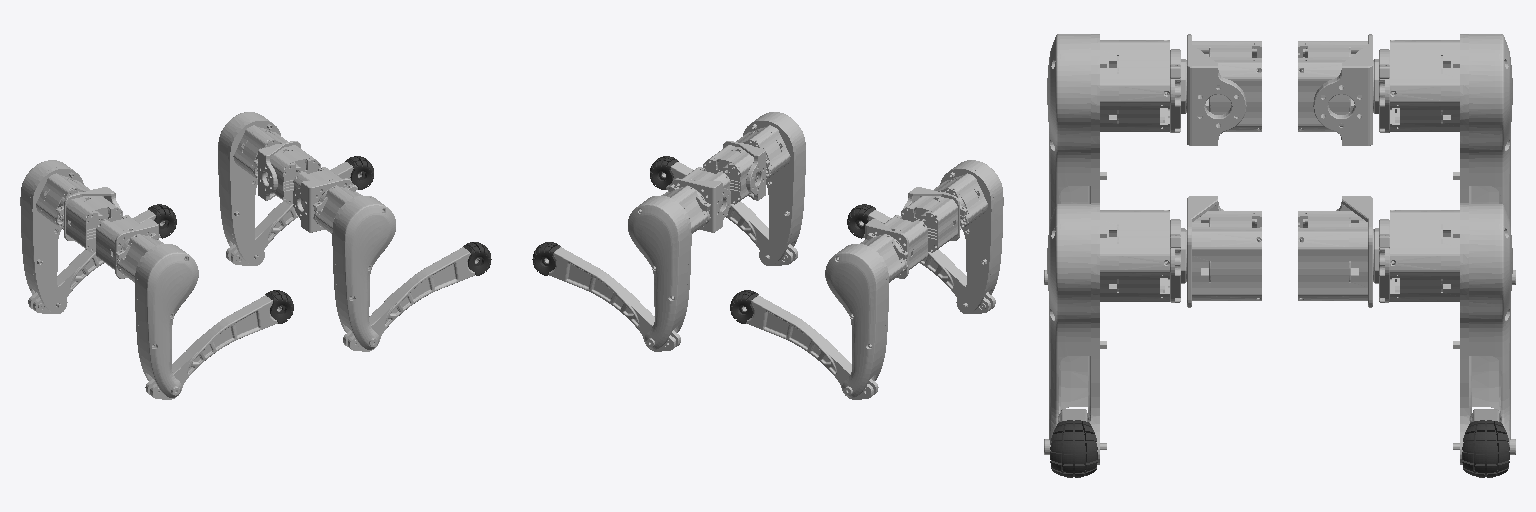
robot.urdf — htdw_4438:
<?xml version="1.0" encoding="utf-8"?>
  <!-- This URDF was automatically created by SolidWorks to URDF Exporter! Originally created by Stephen Brawner (brawner@gmail.com) 
       Commit Version: 1.6.0-4-g7f85cfe  Build Version: 1.6.7995.38578
       For more information, please see http://wiki.ros.org/sw_urdf_exporter -->
  <robot name="htdw_4438">
   <mujoco>
     <compiler meshdir="../meshes/" balanceinertia="true" discardvisual="false" />
   </mujoco>
 
    <link name="base_link">
      <inertial>
       <origin xyz="-0.00153031 -0.00097400 0.01150199" rpy="0 0 0" />
       <mass value="2.38704944931938" />
       <inertia ixx="0.00432411" ixy="-0.00001445" ixz="0.00023080" iyy="0.00847849" iyz="0.00002005" izz="0.00825550" />
      </inertial>
      <visual>
        <origin xyz="0 0 0" rpy="0 0 0" />
        <geometry>
          <mesh filename="../meshes/base_link.STL" />
        </geometry>
        <material name="">
          <color rgba="0.752941176470588 0.752941176470588 0.752941176470588 1" />
        </material>
      </visual>
      <collision>
        <origin xyz="0 0 0" rpy="0 0 0" />
        <geometry>
          <mesh filename="../meshes/base_link.STL" />
        </geometry>
      </collision>
    </link>
    <link name="FL_hip">
      <inertial>
        <origin xyz="-0.00160319 0.00034533 -0.00011543" rpy="0 0 0" />
        <mass value="0.26226812" />
        <inertia ixx="4.467e-05" ixy="1.6e-06" ixz="2.4e-07" iyy="5.307e-05" iyz="-1.3e-07" izz="4.888e-05" />
      </inertial>
      <visual>
        <origin xyz="0 0 0" rpy="0 0 0" />
        <geometry>
          <mesh filename="../meshes/FL_hip.STL" />
        </geometry>
        <material name="">
          <color rgba="0.752941176470588 0.752941176470588 0.752941176470588 1" />
        </material>
      </visual>
      <collision>
        <origin xyz="0 0 0" rpy="0 0 0" />
        <geometry>
          <mesh filename="../meshes/FL_hip.STL" />
        </geometry>
      </collision>
    </link>
    <joint name="FL_hip_joint" type="revolute">
      <origin xyz="0.11415 0.035 0" rpy="0 0 0" />
      <parent link="base_link" />
      <child link="FL_hip" />
      <axis xyz="1 0 0" />
      <limit lower="-0.6" upper="0.6" effort="10" velocity="9.5" />
    </joint>
    <link name="FL_thigh">
      <inertial>
        <origin xyz="-0.00149614 -0.02446145 -0.01144002" rpy="0 0 0" />
        <mass value="0.35333078" />
        <inertia ixx="0.00048452" ixy="1.206e-05" ixz="-2.527e-05" iyy="0.00041716" iyz="9.581e-05" izz="0.00014848" />
      </inertial>
      <visual>
        <origin xyz="0 0 0" rpy="0 0 0" />
        <geometry>
          <mesh filename="../meshes/FL_thigh.STL" />
        </geometry>
        <material name="">
          <color rgba="0.752941176470588 0.752941176470588 0.752941176470588 1" />
        </material>
      </visual>
      <collision>
        <origin xyz="0 0 0" rpy="0 0 0" />
        <geometry>
          <mesh filename="../meshes/FL_thigh.STL" />
        </geometry>
      </collision>
    </link>
    <joint name="FL_thigh_joint" type="revolute">
      <origin xyz="0 0.0822 0" rpy="0 0 0" />
      <parent link="FL_hip" />
      <child link="FL_thigh" />
      <axis xyz="0 1 0" />
      <limit lower="-1.57" upper="3.49" effort="10" velocity="9.5" />
    </joint>
    <link name="FL_calf">
      <inertial>
        <origin xyz="0.00630725 1.372e-05 -0.06091171" rpy="0 0 0" />
        <mass value="0.04362094" />
        <inertia ixx="0.00010549" ixy="0.0" ixz="1.32e-06" iyy="0.00010727" iyz="-5e-08" izz="3.11e-06" />
      </inertial>
      <visual>
        <origin xyz="0 0 0" rpy="0 0 0" />
        <geometry>
          <mesh filename="../meshes/FL_calf.STL" />
        </geometry>
        <material name="">
          <color rgba="0.752941176470588 0.752941176470588 0.752941176470588 1" />
        </material>
      </visual>
      <collision>
        <origin xyz="0 0 0" rpy="0 0 0" />
        <geometry>
          <mesh filename="../meshes/FL_calf.STL" />
        </geometry>
      </collision>
    </link>
    <joint name="FL_calf_joint" type="revolute">
      <origin xyz="0 0 -0.12" rpy="0 0 0" />
      <parent link="FL_thigh" />
      <child link="FL_calf" />
      <axis xyz="0 1 0" />
      <limit lower="-2.5" upper="-1.5" effort="10" velocity="9.5" />
    </joint>
    <link name="FL_foot">
      <inertial>
        <origin xyz="-0.00121152 0.0 -0.00424264" rpy="0 0 0" />
        <mass value="0.00959044" />
        <inertia ixx="7.7e-07" ixy="0.0" ixz="8e-08" iyy="1.06e-06" iyz="0.0" izz="1.08e-06" />
      </inertial>
      <visual>
        <origin xyz="0 0 0" rpy="0 0 0" />
        <geometry>
          <mesh filename="../meshes/FL_foot.STL" />
        </geometry>
        <material name="">
          <color rgba="0.298039215686275 0.298039215686275 0.298039215686275 1" />
        </material>
      </visual>
      <collision>
        <origin xyz="0 0 0" rpy="0 0 0" />
        <geometry>
          <sphere radius="0.01675"/>
        </geometry>
      </collision>
    </link>
    <joint name="FL_foot" type="fixed" dont_collapse="true">
      <origin xyz="0 0 -0.13799" rpy="0 0 0" />
      <parent link="FL_calf" />
      <child link="FL_foot" />
      <axis xyz="0 0 0" />
      <limit lower="0" upper="0" effort="0" velocity="0" />
    </joint>
    <link name="FR_hip">
      <inertial>
        <origin xyz="-0.00160319 -0.00234533 0.00011543" rpy="0 0 0" />
        <mass value="0.26226812" />
        <inertia ixx="4.467e-05" ixy="-1.6e-06" ixz="-2.4e-07" iyy="5.307e-05" iyz="-1.3e-07" izz="4.888e-05" />
      </inertial>
      <visual>
        <origin xyz="0 0 0" rpy="0 0 0" />
        <geometry>
          <mesh filename="../meshes/FR_hip.STL" />
        </geometry>
        <material name="">
          <color rgba="0.752941176470588 0.752941176470588 0.752941176470588 1" />
        </material>
      </visual>
      <collision>
        <origin xyz="0 0 0" rpy="0 0 0" />
        <geometry>
          <mesh filename="../meshes/FR_hip.STL" />
        </geometry>
      </collision>
    </link>
    <joint name="FR_hip_joint" type="revolute">
      <origin xyz="0.11415 -0.035 0" rpy="0 0 0" />
      <parent link="base_link" />
      <child link="FR_hip" />
      <axis xyz="1 0 0" />
      <limit lower="-0.6" upper="0.6" effort="10" velocity="9.5" />
    </joint>
    <link name="FR_thigh">
      <inertial>
        <origin xyz="-0.00147998 0.02446303 -0.01144445" rpy="0 0 0" />
        <mass value="0.35331562" />
        <inertia ixx="0.00048522" ixy="-1.125e-05" ixz="-2.495e-05" iyy="0.00041713" iyz="-9.467e-05" izz="0.00014771" />
      </inertial>
      <visual>
        <origin xyz="0 0 0" rpy="0 0 0" />
        <geometry>
          <mesh filename="../meshes/FR_thigh.STL" />
        </geometry>
        <material name="">
          <color rgba="0.752941176470588 0.752941176470588 0.752941176470588 1" />
        </material>
      </visual>
      <collision>
        <origin xyz="0 0 0" rpy="0 0 0" />
        <geometry>
          <mesh filename="../meshes/FR_thigh.STL" />
        </geometry>
      </collision>
    </link>
    <joint name="FR_thigh_joint" type="revolute">
      <origin xyz="0 -0.0822 0" rpy="0 0 0" />
      <parent link="FR_hip" />
      <child link="FR_thigh" />
      <axis xyz="0 1 0" />
      <limit lower="-1.57" upper="3.49" effort="10" velocity="9.5" />
    </joint>
    <link name="FR_calf">
      <inertial>
        <origin xyz="0.00630725 -1.393e-05 -0.06091171" rpy="0 0 0" />
        <mass value="0.04362094" />
        <inertia ixx="0.00010549" ixy="0.0" ixz="1.32e-06" iyy="0.00010727" iyz="4e-08" izz="3.11e-06" />
      </inertial>
      <visual>
        <origin xyz="0 0 0" rpy="0 0 0" />
        <geometry>
          <mesh filename="../meshes/FR_calf.STL" />
        </geometry>
        <material name="">
          <color rgba="0.752941176470588 0.752941176470588 0.752941176470588 1" />
        </material>
      </visual>
      <collision>
        <origin xyz="0 0 0" rpy="0 0 0" />
        <geometry>
          <mesh filename="../meshes/FR_calf.STL" />
        </geometry>
      </collision>
    </link>
    <joint name="FR_calf_joint" type="revolute">
      <origin xyz="0 0 -0.12" rpy="0 0 0" />
      <parent link="FR_thigh" />
      <child link="FR_calf" />
      <axis xyz="0 1 0" />
      <limit lower="-2.5" upper="-1.5" effort="10" velocity="9.5" />
    </joint>
    <link name="FR_foot">
      <inertial>
        <origin xyz="-0.00120214 0.0 -0.0042374" rpy="0 0 0" />
        <mass value="0.00959044" />
        <inertia ixx="7.7e-07" ixy="0.0" ixz="8e-08" iyy="1.06e-06" iyz="0.0" izz="1.08e-06" />
      </inertial>
      <visual>
        <origin xyz="0 0 0" rpy="0 0 0" />
        <geometry>
          <mesh filename="../meshes/FR_foot.STL" />
        </geometry>
        <material name="">
          <color rgba="0.298039215686275 0.298039215686275 0.298039215686275 1" />
        </material>
      </visual>
      <collision>
        <origin xyz="0 0 0" rpy="0 0 0" />
        <geometry>
          <sphere radius="0.01675"/>
        </geometry>
      </collision>
    </link>
    <joint name="FR_foot" type="fixed" dont_collapse="true">
      <origin xyz="0 0 -0.138" rpy="0 0 0" />
      <parent link="FR_calf" />
      <child link="FR_foot" />
      <axis xyz="0 0 0" />
      <limit lower="0" upper="0" effort="0" velocity="0" />
    </joint>
    <link name="RL_hip">
      <inertial>
        <origin xyz="0.00160319 0.00034533 0.00011543" rpy="0 0 0" />
        <mass value="0.26226812" />
        <inertia ixx="4.467e-05" ixy="-1.6e-06" ixz="2.4e-07" iyy="5.307e-05" iyz="1.3e-07" izz="4.888e-05" />
      </inertial>
      <visual>
        <origin xyz="0 0 0" rpy="0 0 0" />
        <geometry>
          <mesh filename="../meshes/RL_hip.STL" />
        </geometry>
        <material name="">
          <color rgba="0.752941176470588 0.752941176470588 0.752941176470588 1" />
        </material>
      </visual>
      <collision>
        <origin xyz="0 0 0" rpy="0 0 0" />
        <geometry>
          <mesh filename="../meshes/RL_hip.STL" />
        </geometry>
      </collision>
    </link>
    <joint name="RL_hip_joint" type="revolute">
      <origin xyz="-0.11415 0.035 0" rpy="0 0 0" />
      <parent link="base_link" />
      <child link="RL_hip" />
      <axis xyz="1 0 0" />
      <limit lower="-0.6" upper="0.6" effort="10" velocity="9.5" />
    </joint>
    <link name="RL_thigh">
      <inertial>
        <origin xyz="-0.00149614 -0.02446145 -0.01144002" rpy="0 0 0" />
        <mass value="0.35333078" />
        <inertia ixx="0.00048452" ixy="1.206e-05" ixz="-2.527e-05" iyy="0.00041716" iyz="9.581e-05" izz="0.00014848" />
      </inertial>
      <visual>
        <origin xyz="0 0 0" rpy="0 0 0" />
        <geometry>
          <mesh filename="../meshes/RL_thigh.STL" />
        </geometry>
        <material name="">
          <color rgba="0.752941176470588 0.752941176470588 0.752941176470588 1" />
        </material>
      </visual>
      <collision>
        <origin xyz="0 0 0" rpy="0 0 0" />
        <geometry>
          <mesh filename="../meshes/RL_thigh.STL" />
        </geometry>
      </collision>
    </link>
    <joint name="RL_thigh_joint" type="revolute">
      <origin xyz="0 0.0822 0" rpy="0 0 0" />
      <parent link="RL_hip" />
      <child link="RL_thigh" />
      <axis xyz="0 1 0" />
      <limit lower="-1.57" upper="3.49" effort="10" velocity="9.5" />
    </joint>
    <link name="RL_calf">
      <inertial>
        <origin xyz="0.00630725 1.372e-05 -0.06091171" rpy="0 0 0" />
        <mass value="0.04362094" />
        <inertia ixx="0.00010549" ixy="0.0" ixz="1.32e-06" iyy="0.00010727" iyz="-5e-08" izz="3.11e-06" />
      </inertial>
      <visual>
        <origin xyz="0 0 0" rpy="0 0 0" />
        <geometry>
          <mesh filename="../meshes/RL_calf.STL" />
        </geometry>
        <material name="">
          <color rgba="0.752941176470588 0.752941176470588 0.752941176470588 1" />
        </material>
      </visual>
      <collision>
        <origin xyz="0 0 0" rpy="0 0 0" />
        <geometry>
          <mesh filename="../meshes/RL_calf.STL" />
        </geometry>
      </collision>
    </link>
    <joint name="RL_calf_joint" type="revolute">
      <origin xyz="0 0 -0.12" rpy="0 0 0" />
      <parent link="RL_thigh" />
      <child link="RL_calf" />
      <axis xyz="0 1 0" />
      <limit lower="-2.5" upper="-1.5" effort="10" velocity="9.5" />
    </joint>
    <link name="RL_foot">
      <inertial>
        <origin xyz="-0.00120214 0.0 -0.0042374" rpy="0 0 0" />
        <mass value="0.00959044" />
        <inertia ixx="7.7e-07" ixy="0.0" ixz="8e-08" iyy="1.06e-06" iyz="0.0" izz="1.08e-06" />
      </inertial>
      <visual>
        <origin xyz="0 0 0" rpy="0 0 0" />
        <geometry>
          <mesh filename="../meshes/RL_foot.STL" />
        </geometry>
        <material name="">
          <color rgba="0.298039215686275 0.298039215686275 0.298039215686275 1" />
        </material>
      </visual>
      <collision>
        <origin xyz="0 0 0" rpy="0 0 0" />
        <geometry>
          <sphere radius="0.01675"/>
        </geometry>
      </collision>
    </link>
    <joint name="RL_foot" type="fixed" dont_collapse="true">
      <origin xyz="0 0 -0.138" rpy="0 0 0" />
      <parent link="RL_calf" />
      <child link="RL_foot" />
      <axis xyz="0 0 0" />
      <limit lower="0" upper="0" effort="0" velocity="0" />
    </joint>
    <link name="RR_hip">
      <inertial>
        <origin xyz="0.00160319 -0.00234533 -0.00011543" rpy="0 0 0" />
        <mass value="0.26226812" />
        <inertia ixx="4.467e-05" ixy="1.6e-06" ixz="-2.4e-07" iyy="5.307e-05" iyz="1.3e-07" izz="4.888e-05" />
      </inertial>
      <visual>
        <origin xyz="0 0 0" rpy="0 0 0" />
        <geometry>
          <mesh filename="../meshes/RR_hip.STL" />
        </geometry>
        <material name="">
          <color rgba="0.752941176470588 0.752941176470588 0.752941176470588 1" />
        </material>
      </visual>
      <collision>
        <origin xyz="0 0 0" rpy="0 0 0" />
        <geometry>
          <mesh filename="../meshes/RR_hip.STL" />
        </geometry>
      </collision>
    </link>
    <joint name="RR_hip_joint" type="revolute">
      <origin xyz="-0.11415 -0.035 0" rpy="0 0 0" />
      <parent link="base_link" />
      <child link="RR_hip" />
      <axis xyz="1 0 0" />
      <limit lower="-0.6" upper="0.6" effort="10" velocity="9.5" />
    </joint>
    <link name="RR_thigh">
      <inertial>
        <origin xyz="-0.00147998 0.02446303 -0.01144445" rpy="0 0 0" />
        <mass value="0.35331562" />
        <inertia ixx="0.00048522" ixy="-1.125e-05" ixz="-2.495e-05" iyy="0.00041713" iyz="-9.467e-05" izz="0.00014771" />
      </inertial>
      <visual>
        <origin xyz="0 0 0" rpy="0 0 0" />
        <geometry>
          <mesh filename="../meshes/RR_thigh.STL" />
        </geometry>
        <material name="">
          <color rgba="0.752941176470588 0.752941176470588 0.752941176470588 1" />
        </material>
      </visual>
      <collision>
        <origin xyz="0 0 0" rpy="0 0 0" />
        <geometry>
          <mesh filename="../meshes/RR_thigh.STL" />
        </geometry>
      </collision>
    </link>
    <joint name="RR_thigh_joint" type="revolute">
      <origin xyz="0 -0.0822 0" rpy="0 0 0" />
      <parent link="RR_hip" />
      <child link="RR_thigh" />
      <axis xyz="0 1 0" />
      <limit lower="-1.57" upper="3.49" effort="10" velocity="9.5" />
    </joint>
    <link name="RR_calf">
      <inertial>
        <origin xyz="0.00630725 -1.393e-05 -0.06091171" rpy="0 0 0" />
        <mass value="0.04362094" />
        <inertia ixx="0.00010549" ixy="0.0" ixz="1.32e-06" iyy="0.00010727" iyz="4e-08" izz="3.11e-06" />
      </inertial>
      <visual>
        <origin xyz="0 0 0" rpy="0 0 0" />
        <geometry>
          <mesh filename="../meshes/RR_calf.STL" />
        </geometry>
        <material name="">
          <color rgba="0.752941176470588 0.752941176470588 0.752941176470588 1" />
        </material>
      </visual>
      <collision>
        <origin xyz="0 0 0" rpy="0 0 0" />
        <geometry>
          <mesh filename="../meshes/RR_calf.STL" />
        </geometry>
      </collision>
    </link>
    <joint name="RR_calf_joint" type="revolute">
      <origin xyz="0 0 -0.12" rpy="0 0 0" />
      <parent link="RR_thigh" />
      <child link="RR_calf" />
      <axis xyz="0 1 0" />
      <limit lower="-2.5" upper="-1.5" effort="10" velocity="9.5" />
    </joint>
    <link name="RR_foot">
      <inertial>
        <origin xyz="-0.00120214 0.0 -0.0042374" rpy="0 0 0" />
        <mass value="0.00959044" />
        <inertia ixx="7.7e-07" ixy="0.0" ixz="8e-08" iyy="1.06e-06" iyz="0.0" izz="1.08e-06" />
      </inertial>
      <visual>
        <origin xyz="0 0 0" rpy="0 0 0" />
        <geometry>
          <mesh filename="../meshes/RR_foot.STL" />
        </geometry>
        <material name="">
          <color rgba="0.298039215686275 0.298039215686275 0.298039215686275 1" />
        </material>
      </visual>
      <collision>
        <origin xyz="0 0 0" rpy="0 0 0" />
        <geometry>
          <sphere radius="0.01675"/>
        </geometry>
      </collision>
    </link>
    <joint name="RR_foot" type="fixed" dont_collapse="true">
      <origin xyz="0 0 -0.138" rpy="0 0 0" />
      <parent link="RR_calf" />
      <child link="RR_foot" />
      <axis xyz="0 0 0" />
      <limit lower="0" upper="0" effort="0" velocity="0" />
    </joint>
  </robot>

--- What the picture shows (computed from the rendered views, not written in the file) ---
3 views of the same robot in one strip: view 1: azimuth 30°, elevation 25°; view 2: azimuth 150°, elevation 25°; view 3: azimuth 270°, elevation 25° (orthographic).
Robot: htdw_4438 — 17 links, 16 joints (12 revolute, 4 fixed); root link base_link; default pose: all joints at 0 but 4 set to mid-range because 0 is outside their limits (FL_calf_joint = -2, FR_calf_joint = -2, RL_calf_joint = -2, RR_calf_joint = -2).
Visible links, largest first — view 1: FR_thigh, RR_thigh, RL_thigh, FL_thigh, FR_calf, RR_calf, FL_hip, RL_hip, FR_hip, RR_hip, FL_calf, RL_calf (+4 smaller); view 2: FL_thigh, RL_thigh, RR_thigh, FR_thigh, FL_calf, RL_calf, FR_hip, RR_hip, FL_hip, RL_hip, FR_calf, RR_calf (+4 smaller); view 3: FR_thigh, FL_thigh, RL_thigh, RR_thigh, RL_hip, RR_hip, FL_hip, FR_hip, FR_foot, FL_foot.
Boxes of the visible links, x1,y1,x2,y2 form: FR_thigh: [313, 184, 395, 349]; RR_thigh: [115, 233, 198, 397]; RL_thigh: [20, 160, 93, 313]; FL_thigh: [218, 112, 290, 265]; FR_calf: [343, 247, 479, 351]; RR_calf: [145, 295, 281, 399]; FL_hip: [258, 141, 320, 204]; RL_hip: [64, 187, 122, 252]; FR_hip: [293, 167, 352, 232]; RR_hip: [96, 215, 158, 278]; FL_calf: [226, 162, 361, 265]; RL_calf: [28, 210, 164, 313]; FL_thigh: [628, 184, 710, 349]; RL_thigh: [825, 233, 908, 397]; RR_thigh: [930, 160, 1003, 313]; FR_thigh: [733, 112, 805, 265]; FL_calf: [544, 247, 680, 351]; RL_calf: [742, 295, 878, 399]; FR_hip: [703, 141, 765, 204]; RR_hip: [901, 187, 959, 252]; FL_hip: [671, 167, 730, 232]; RL_hip: [865, 215, 927, 278]; FR_calf: [662, 162, 797, 265]; RR_calf: [859, 210, 995, 313]; FR_thigh: [1044, 203, 1185, 464]; FL_thigh: [1374, 203, 1515, 464]; RL_thigh: [1374, 34, 1515, 284]; RR_thigh: [1044, 34, 1185, 284]; RL_hip: [1298, 34, 1373, 145]; RR_hip: [1186, 34, 1261, 145]; FL_hip: [1298, 196, 1373, 307]; FR_hip: [1186, 196, 1261, 307]; FR_foot: [1050, 420, 1097, 477]; FL_foot: [1462, 420, 1509, 477].
Bounding box of the posed robot: 0.4005 × 0.268 × 0.1629 m (x, y, z).
16 mesh visuals loaded from 17 distinct referenced files (16 binary STL); not drawn: 1 (reference not matched to a file when rendering).
